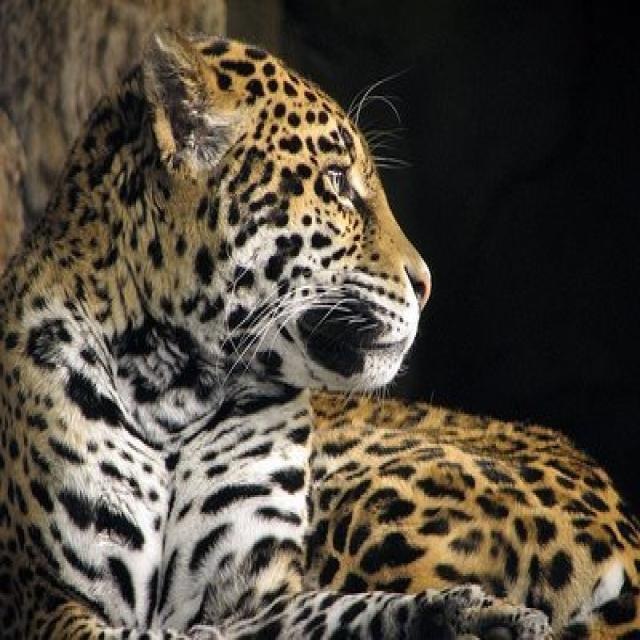Leopard: (0, 21, 637, 636)
